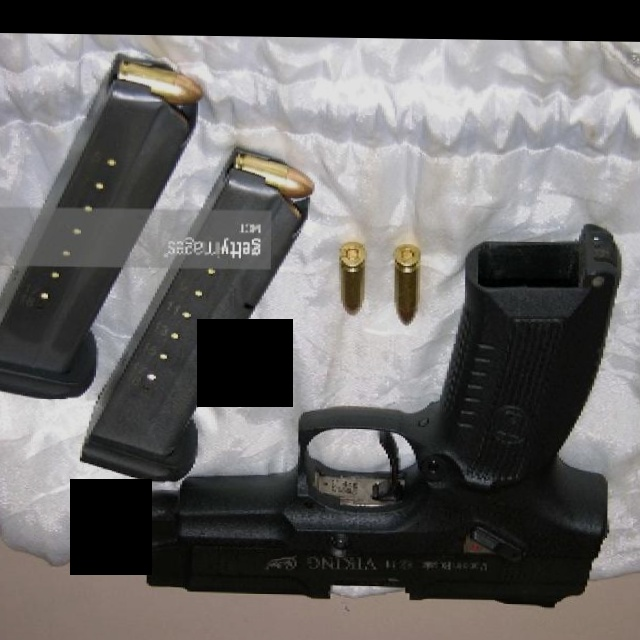gun: (127, 216, 628, 613)
